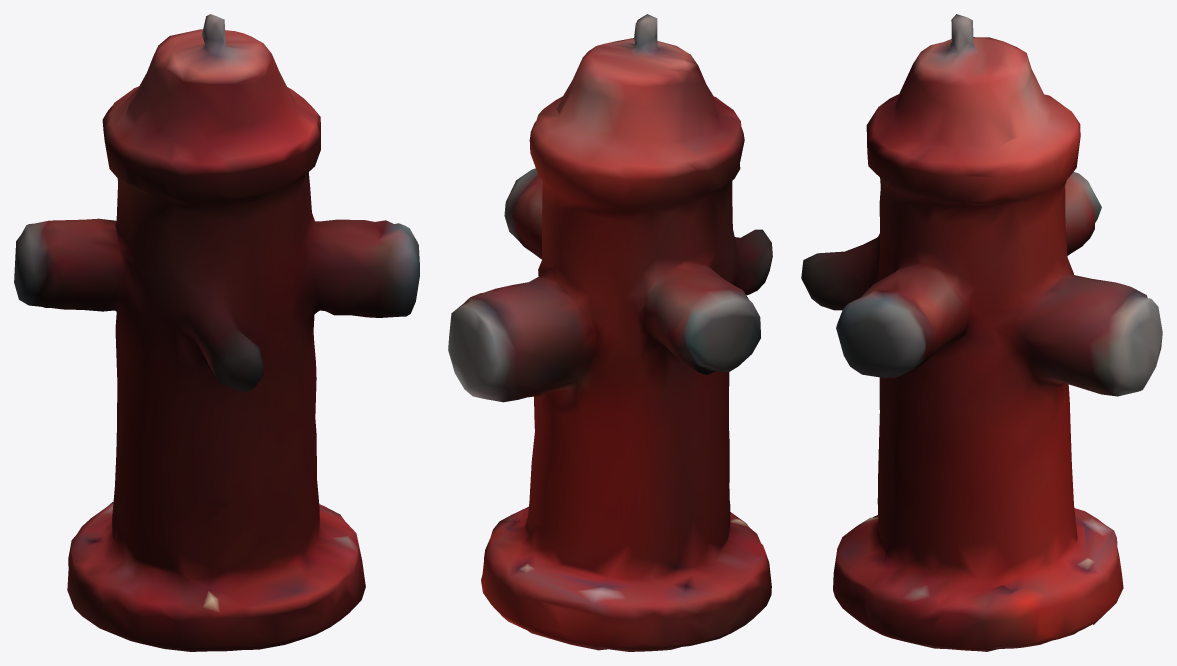
Rendered from gen_hydrant_lowpoly.glb.
3 renders of one model, left to right at view 1: azimuth 30°, elevation 25°; view 2: azimuth 150°, elevation 25°; view 3: azimuth 270°, elevation 25°, orthographic. The views are drawn at different scales.
Visible parts, largest first — view 1: gen_hydrant_lowpoly; view 2: gen_hydrant_lowpoly; view 3: gen_hydrant_lowpoly.
Boxes of the visible parts, bbox=[...] form: gen_hydrant_lowpoly: bbox=[14, 14, 419, 651]; gen_hydrant_lowpoly: bbox=[448, 14, 772, 651]; gen_hydrant_lowpoly: bbox=[801, 14, 1162, 651].
Bounding box in the file's own units: 0.4538 × 0.7979 × 0.4528.
